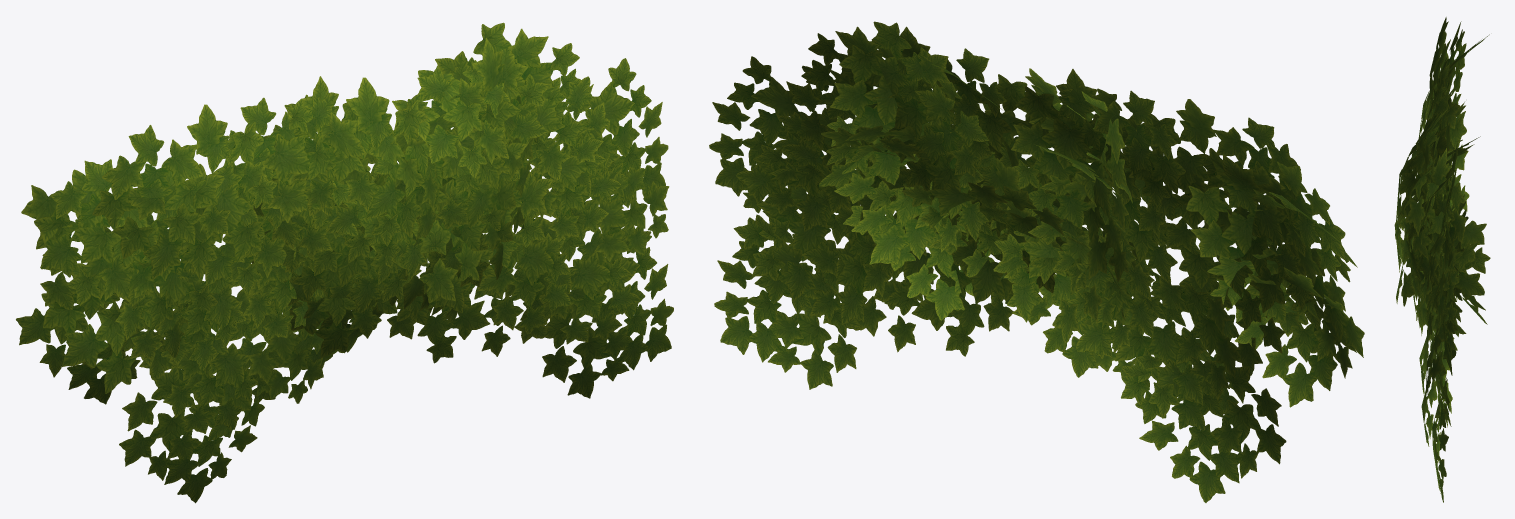
The model's file is SM_fwOF_IvyGroup_10.fbx.
3 renders of one model, left to right at view 1: azimuth 30°, elevation 25°; view 2: azimuth 150°, elevation 25°; view 3: azimuth 270°, elevation 25°, orthographic. The views are drawn at different scales.
Parts seen in each view (by area): view 1: SM_fwOF_IvyGroup_10_LOD0; view 2: SM_fwOF_IvyGroup_10_LOD0; view 3: SM_fwOF_IvyGroup_10_LOD0.
Boxes of the visible parts, x1,y1,x2,y2 form: SM_fwOF_IvyGroup_10_LOD0: (16, 22, 673, 503); SM_fwOF_IvyGroup_10_LOD0: (709, 21, 1364, 502); SM_fwOF_IvyGroup_10_LOD0: (1394, 17, 1490, 502).
Size of what is drawn, in the model's own units: 2.96 by 1.79 by 0.5231.
